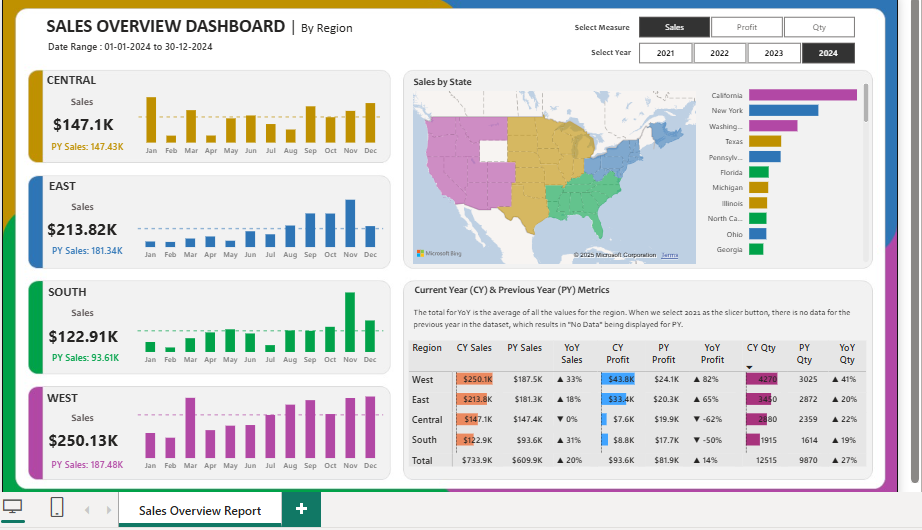

The dashboard page shown, as its layout file describes it:
{"tool":"powerbi","page":{"name":"Sales Overview Report","canvas":[1280,720],"ordinal":0},"visuals":[{"type":"clusteredColumnChart","fields":{"Y":["Orders.Total Sales"],"Category":["Calendar Table.Month"]},"box":[190,103.6,360,132.7],"z":0},{"type":"textbox","box":[48.6,102.1,101.2,33.1],"z":1000},{"type":"card","fields":{"Values":["Orders.Total Sales"]},"box":[56.7,164.4,116.7,36.7],"z":2000},{"type":"slicer","fields":{"Values":["Parameter.Parameter"]},"box":[884.5,20.9,358.2,42.7],"z":3000},{"type":"card","fields":{"Values":["Orders.Title"]},"box":[81.1,136.7,65.6,25.6],"z":4000},{"type":"clusteredColumnChart","fields":{"Y":["Orders.Total Sales"],"Category":["Calendar Table.Month"]},"box":[188.9,254.4,361.4,132],"z":5000},{"type":"textbox","box":[36.2,252.7,100.9,32.8],"z":6000},{"type":"card","fields":{"Values":["Orders.Total Sales"]},"box":[56.3,314.5,116.4,36.2],"z":7000},{"type":"card","fields":{"Values":["Orders.Title"]},"box":[82.2,287.8,64.4,26.7],"z":8000},{"type":"clusteredColumnChart","fields":{"Y":["Orders.Total Sales"],"Category":["Calendar Table.Month"]},"box":[189.1,404.5,360.9,131.8],"z":9000},{"type":"textbox","box":[43.1,403.7,100.9,32.8],"z":10000},{"type":"card","fields":{"Values":["Orders.Total Sales"]},"box":[56.7,466.7,116.7,36.7],"z":11000},{"type":"card","fields":{"Values":["Orders.Title"]},"box":[82.2,438.9,64.4,25.6],"z":12000},{"type":"clusteredColumnChart","fields":{"Y":["Orders.Total Sales"],"Category":["Calendar Table.Month"]},"box":[188.9,555.5,361.4,132],"z":13000},{"type":"textbox","box":[36.2,555.5,100.9,32.8],"z":14000},{"type":"card","fields":{"Values":["Orders.Total Sales"]},"box":[57.5,615.8,116.7,36.7],"z":15000},{"type":"card","fields":{"Values":["Orders.Title"]},"box":[83.3,588.9,64.4,26.7],"z":16000},{"type":"textbox","box":[26.1,20.6,513.5,46.7],"z":17000},{"type":"map","title":"Sales by State","fields":{"Size":["Orders.Total Sales"],"Category":["Orders.State/Province"],"Series":["Orders.Region"]},"box":[583.3,112.5,413.3,273.3],"z":18000},{"type":"barChart","fields":{"Y":["Orders.Total Sales"],"Category":["Orders.State/Province"],"Series":["Orders.Region"]},"box":[990.9,110,251.8,273.6],"z":19000},{"type":"pivotTable","fields":{"Rows":["Orders.Region"],"Values":["Orders.CY Sales","Orders.PY Sales","Orders.YoY Sales","Orders.CY Profit","Orders.PY Profit","Orders.YoY Profit","Orders.CY Qty","Orders.PY Qty","Orders.YoY Qty"]},"box":[576.2,485.6,666.7,197.5],"z":20000},{"type":"slicer","fields":{"Values":["Calendar Table.Year"]},"box":[884.5,59.1,358.2,42.7],"z":21000},{"type":"card","fields":{"Values":["Orders.SalesPreviousYear"]},"box":[51.7,199.2,140.8,35],"z":22000},{"type":"card","fields":{"Values":["Orders.SalesPreviousYear"]},"box":[50.8,346.7,140.8,35.8],"z":23000},{"type":"card","fields":{"Values":["Orders.SalesPreviousYear"]},"box":[48.9,500,141.1,35.6],"z":24000},{"type":"card","fields":{"Values":["Orders.SalesPreviousYear"]},"box":[51.7,652.5,140.8,35.8],"z":25000},{"type":"textbox","box":[583.6,404.5,337.3,34.5],"z":26000},{"type":"card","fields":{"Values":["Orders.Date Range"]},"box":[33.6,55.5,298.2,34.5],"z":27000},{"type":"textbox","box":[806.4,28.2,103.6,30],"z":28000},{"type":"textbox","box":[819.1,63.6,103.6,30],"z":29000},{"type":"textbox","box":[582.7,435.5,643.6,51.8],"z":30000}]}

Visuals, with their boxes on the page's 1280x720 design canvas (x1, y1, x2, y2). These are canvas units, not pixel positions in the 922x530 screenshot, which may show the page scaled, cropped or inside an application window:
clusteredColumnChart - Orders.Total Sales x Calendar Table.Month: detection(190, 104, 550, 236)
textbox: detection(49, 102, 150, 135)
card - Orders.Total Sales: detection(57, 164, 173, 201)
slicer - Parameter.Parameter: detection(884, 21, 1243, 64)
card - Orders.Title: detection(81, 137, 147, 162)
clusteredColumnChart - Orders.Total Sales x Calendar Table.Month: detection(189, 254, 550, 386)
textbox: detection(36, 253, 137, 286)
card - Orders.Total Sales: detection(56, 314, 173, 351)
card - Orders.Title: detection(82, 288, 147, 314)
clusteredColumnChart - Orders.Total Sales x Calendar Table.Month: detection(189, 404, 550, 536)
textbox: detection(43, 404, 144, 436)
card - Orders.Total Sales: detection(57, 467, 173, 503)
card - Orders.Title: detection(82, 439, 147, 464)
clusteredColumnChart - Orders.Total Sales x Calendar Table.Month: detection(189, 556, 550, 688)
textbox: detection(36, 556, 137, 588)
card - Orders.Total Sales: detection(58, 616, 174, 652)
card - Orders.Title: detection(83, 589, 148, 616)
textbox: detection(26, 21, 540, 67)
"Sales by State" map: detection(583, 112, 997, 386)
barChart - Orders.Total Sales x Orders.State/Province: detection(991, 110, 1243, 384)
pivotTable - Orders.Region x Orders.CY Sales: detection(576, 486, 1243, 683)
slicer - Calendar Table.Year: detection(884, 59, 1243, 102)
card - Orders.SalesPreviousYear: detection(52, 199, 192, 234)
card - Orders.SalesPreviousYear: detection(51, 347, 192, 382)
card - Orders.SalesPreviousYear: detection(49, 500, 190, 536)
card - Orders.SalesPreviousYear: detection(52, 652, 192, 688)
textbox: detection(584, 404, 921, 439)
card - Orders.Date Range: detection(34, 56, 332, 90)
textbox: detection(806, 28, 910, 58)
textbox: detection(819, 64, 923, 94)
textbox: detection(583, 436, 1226, 487)
